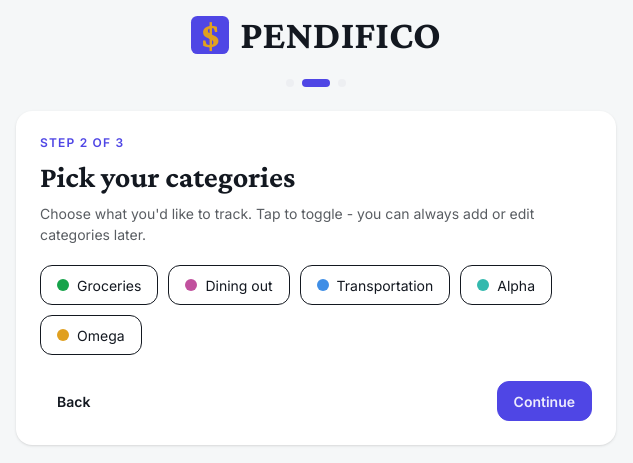
Test case: AC2: a chip toggles both ways › shows the checkmark and the tinted treatment while selected
Click the button "Alpha": (506, 285) [460,265,552,305]
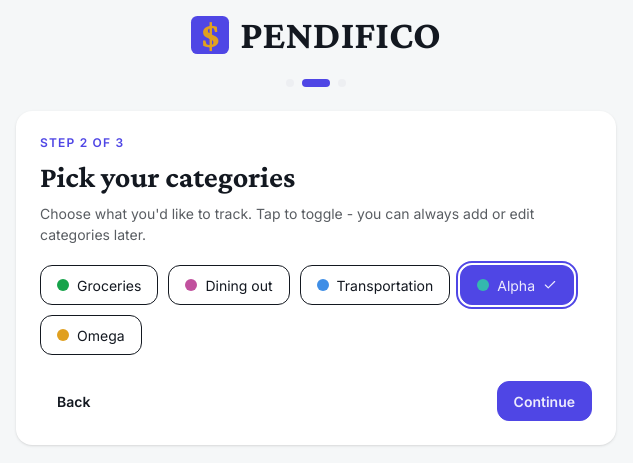
Expected: the number of icons is 1, [543,278,557,292]
